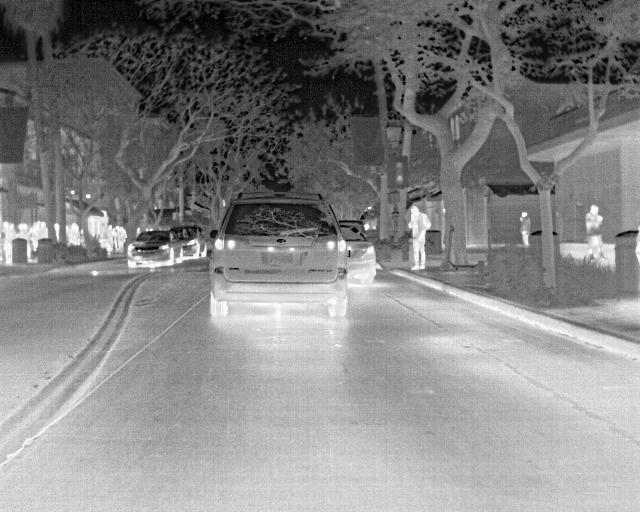bicycle: (206, 189, 348, 320), (338, 218, 378, 282), (125, 229, 184, 271), (170, 227, 205, 260)
empty: (405, 202, 428, 272), (582, 203, 604, 263), (517, 207, 530, 249)
